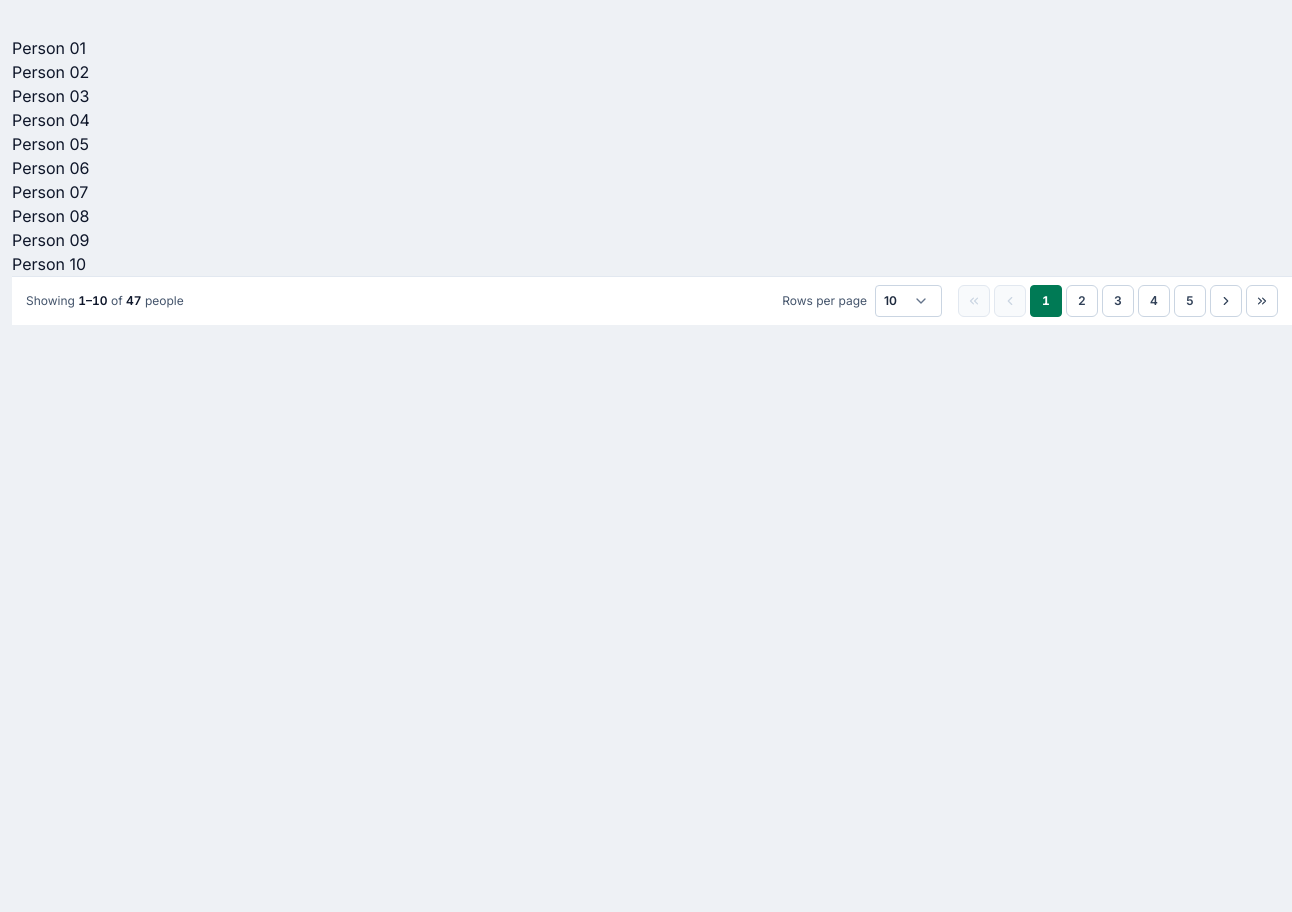
Scenario: Pagination › changes how many rows a page holds, and goes back to page 1
Click the button named "Page 4" at x=1154, y=301, box [1138,285,1170,317]
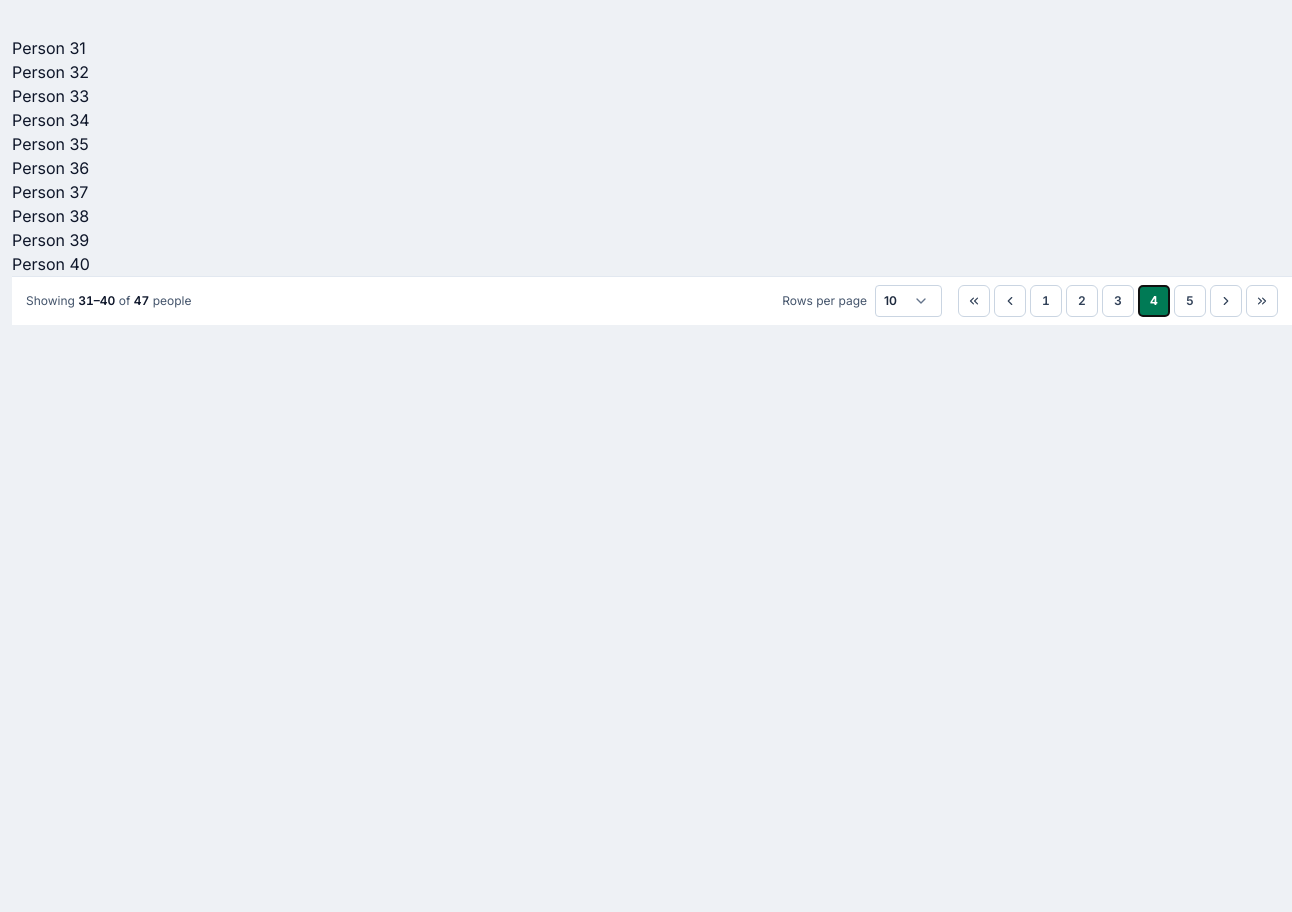
Select "25" in the dropdown labelled "Rows per page" at x=908, y=301, box [875,285,942,317]
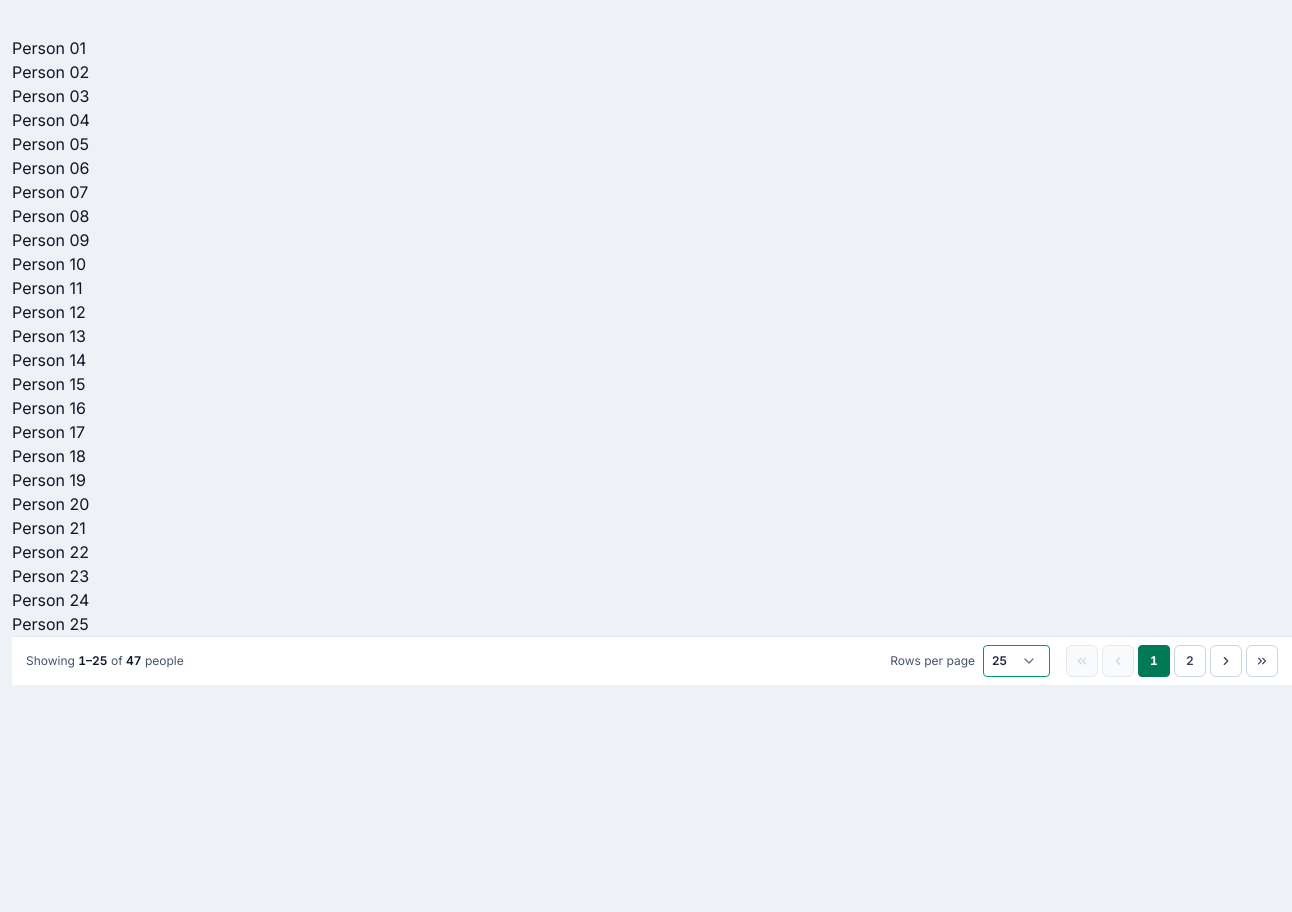
Result: the text "Showing 1–25 of 47 people" is shown at [26,653,184,669]
Result: the number of buttons "1" is 2 at [1138,645,1170,677]; [1174,645,1206,677]
